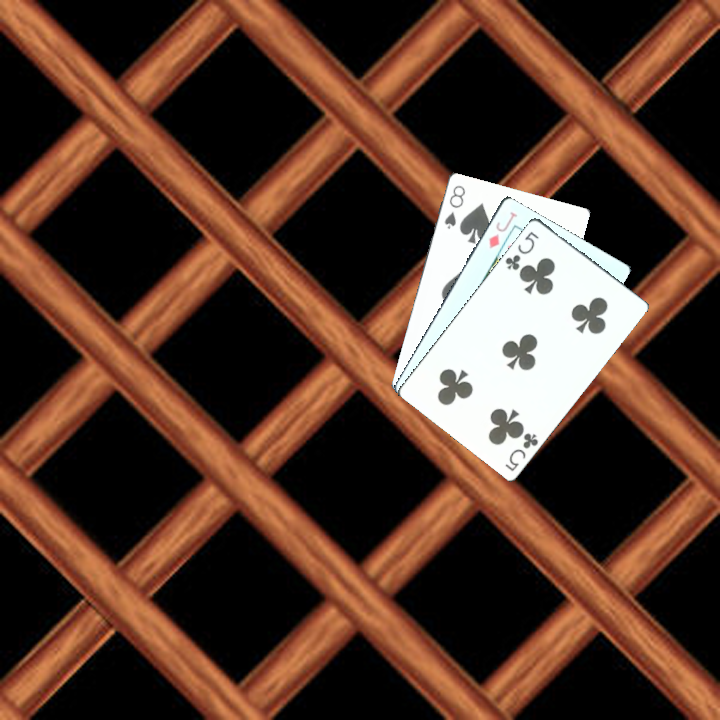5c: (500, 429, 541, 474), (501, 227, 541, 273)
8s: (440, 181, 468, 231)
Jd: (484, 207, 520, 251)
